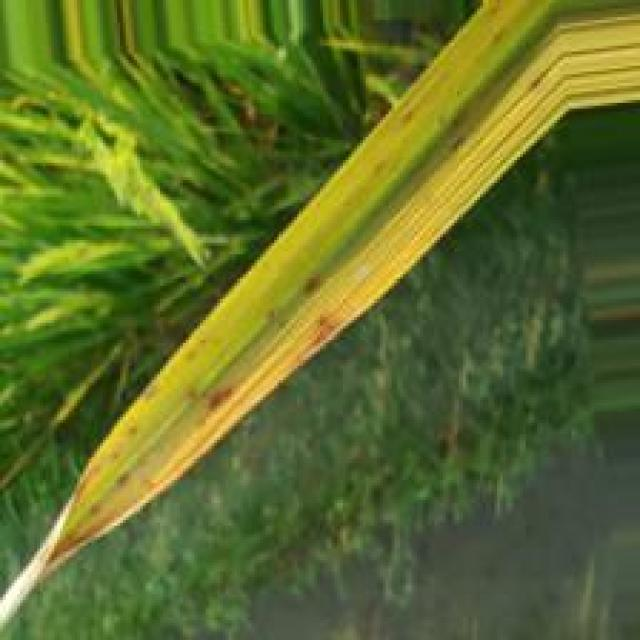Brown_Spot: (299, 313, 344, 360), (203, 385, 237, 411), (299, 269, 324, 303), (111, 472, 129, 496)
